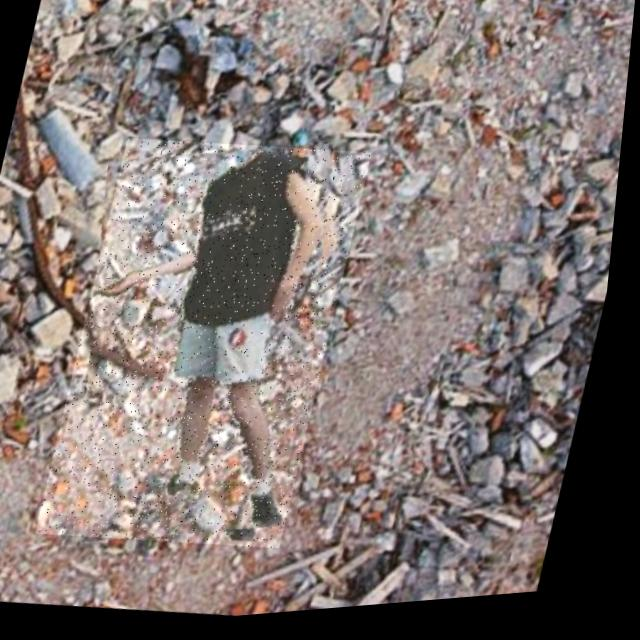Person in Rubble: (43, 125, 378, 570)
